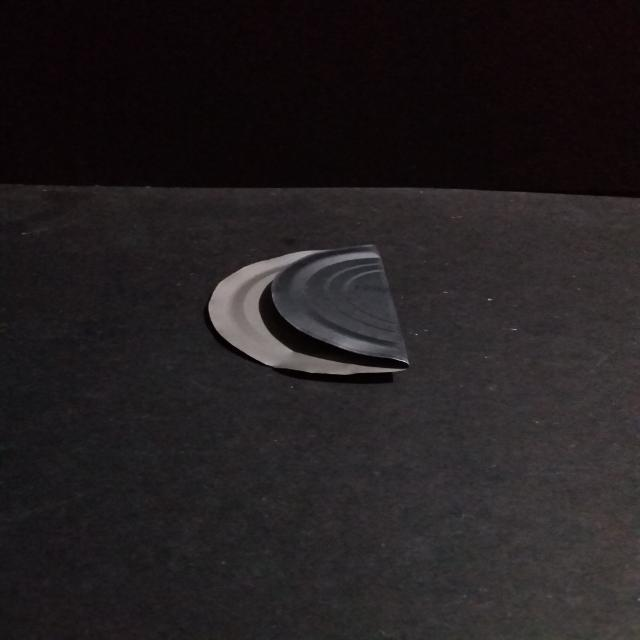metal-can: (203, 243, 415, 385)
